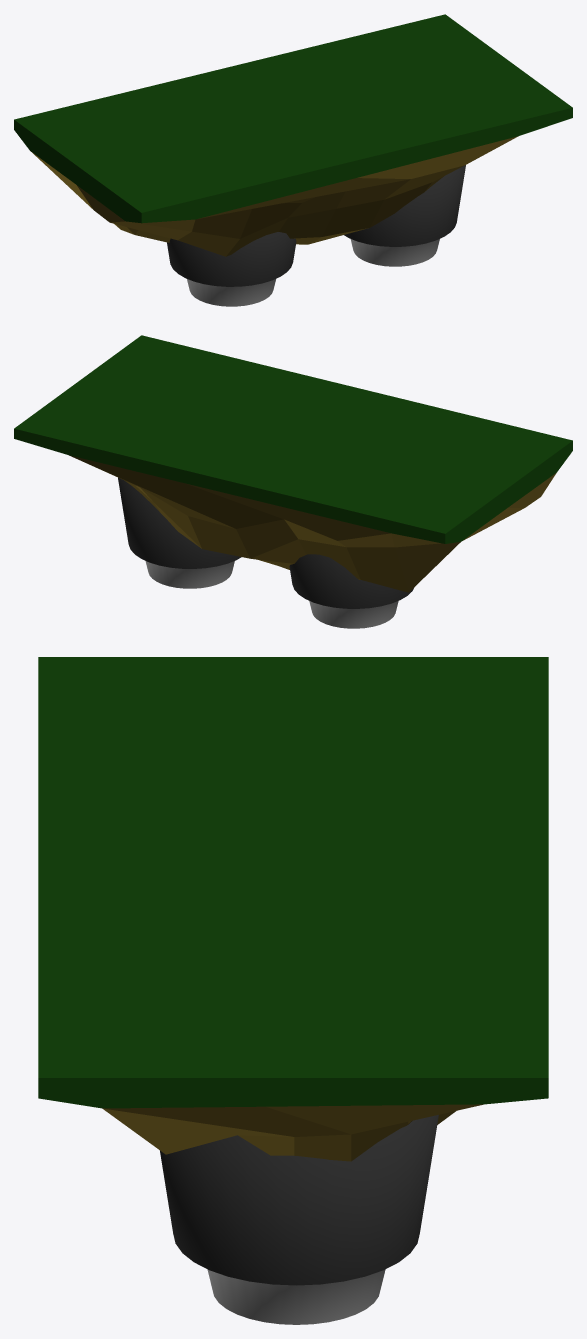
File: Island8.fbx
The picture shows the model from 3 angles, top to bottom: view 1: azimuth 30°, elevation 25°; view 2: azimuth 150°, elevation 25°; view 3: azimuth 270°, elevation 25°; orthographic projection. The views are drawn at different scales.
Visible parts, largest first — view 1: Island8; view 2: Island8; view 3: Island8.
Part boxes in pixels (left/top/right/bottom): Island8: left=14, top=14, right=572, bottom=306; Island8: left=14, top=335, right=572, bottom=628; Island8: left=38, top=657, right=548, bottom=1324.
Bounding box in the file's own units: 9008 × 3211 × 4614.
